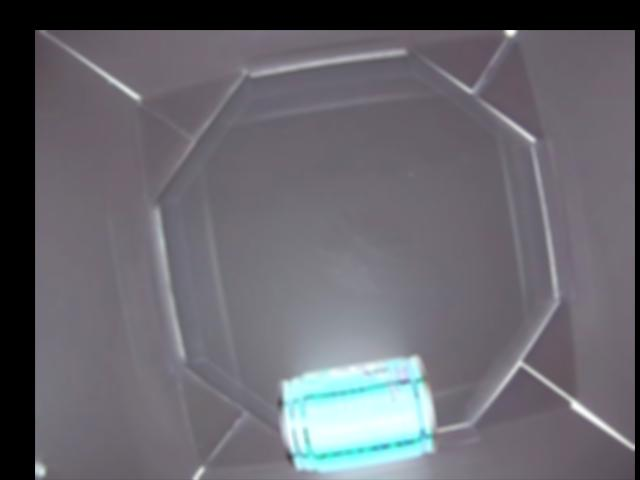Bottle: (274, 357, 437, 473)
